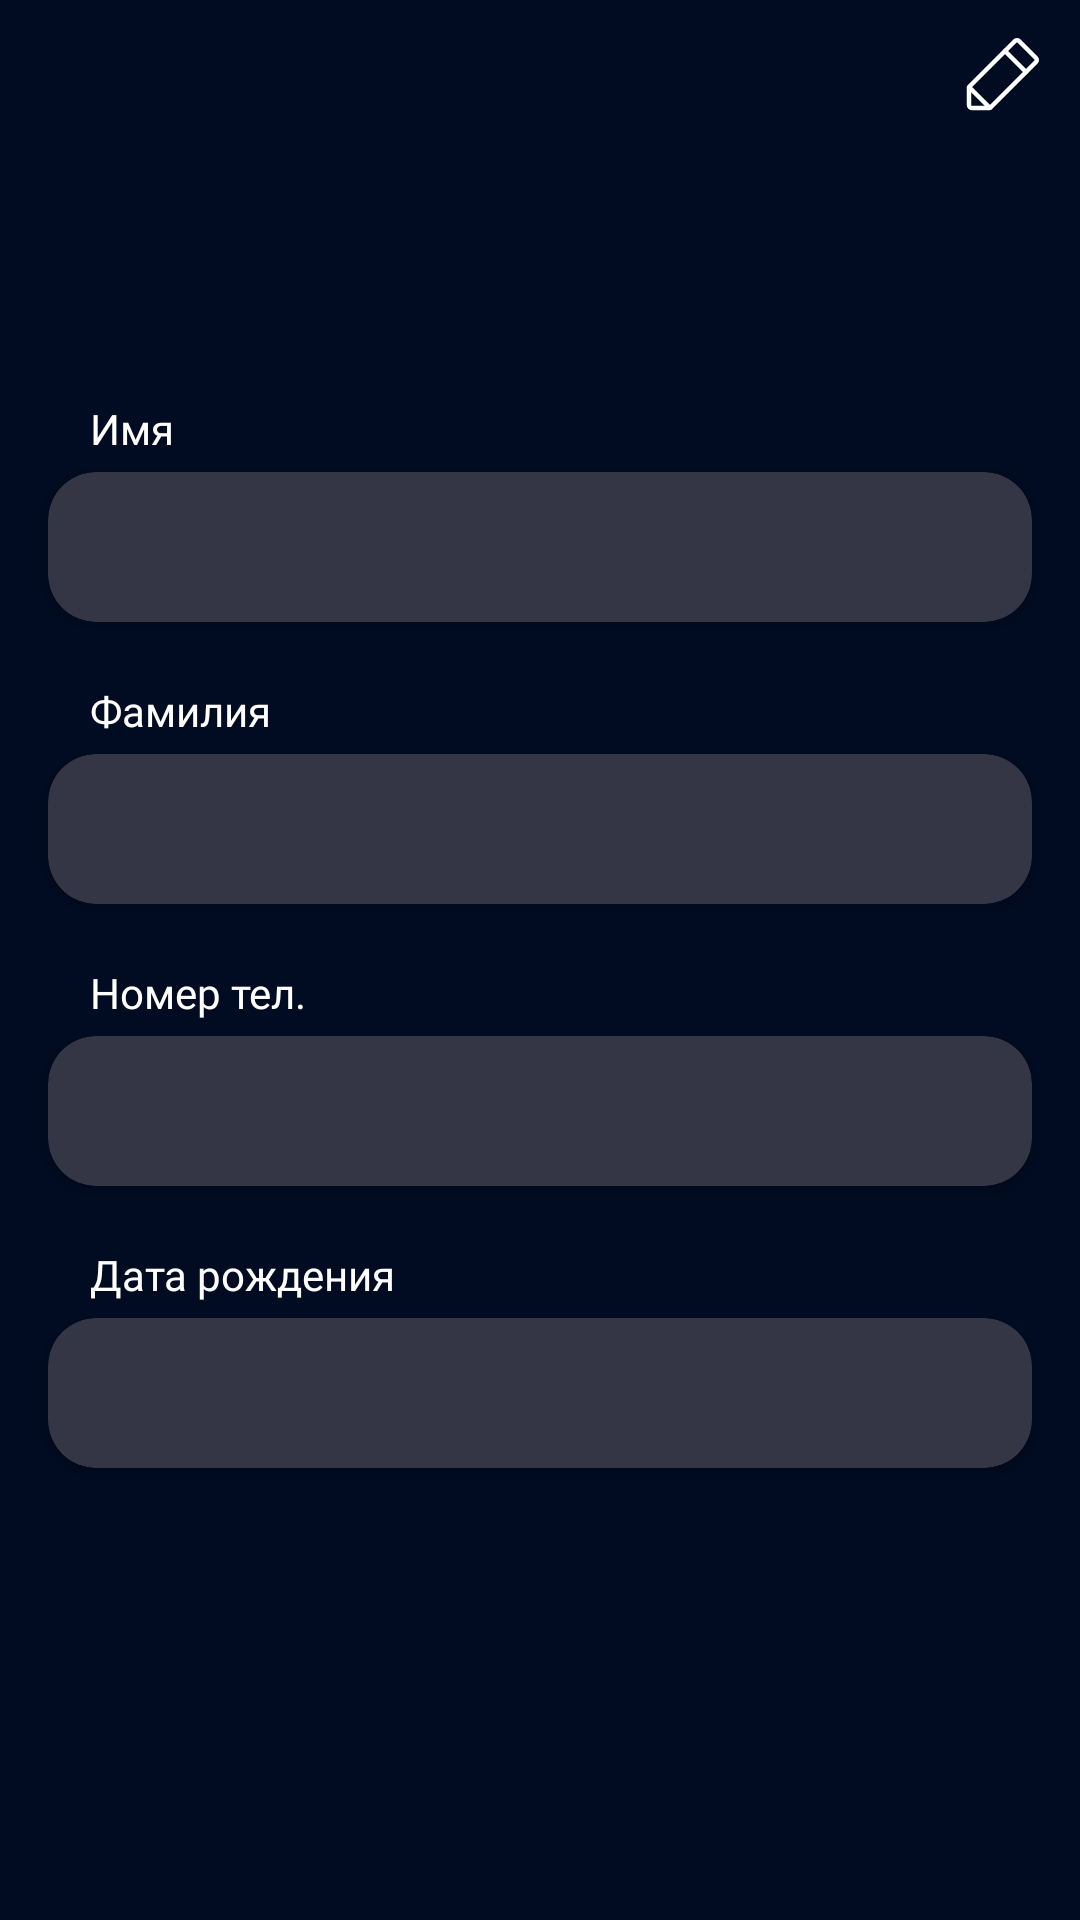

Where to tap for icons on this 1080w x 1920h app screen, as (x=x, y=y):
pencil: (x=1002, y=74)
